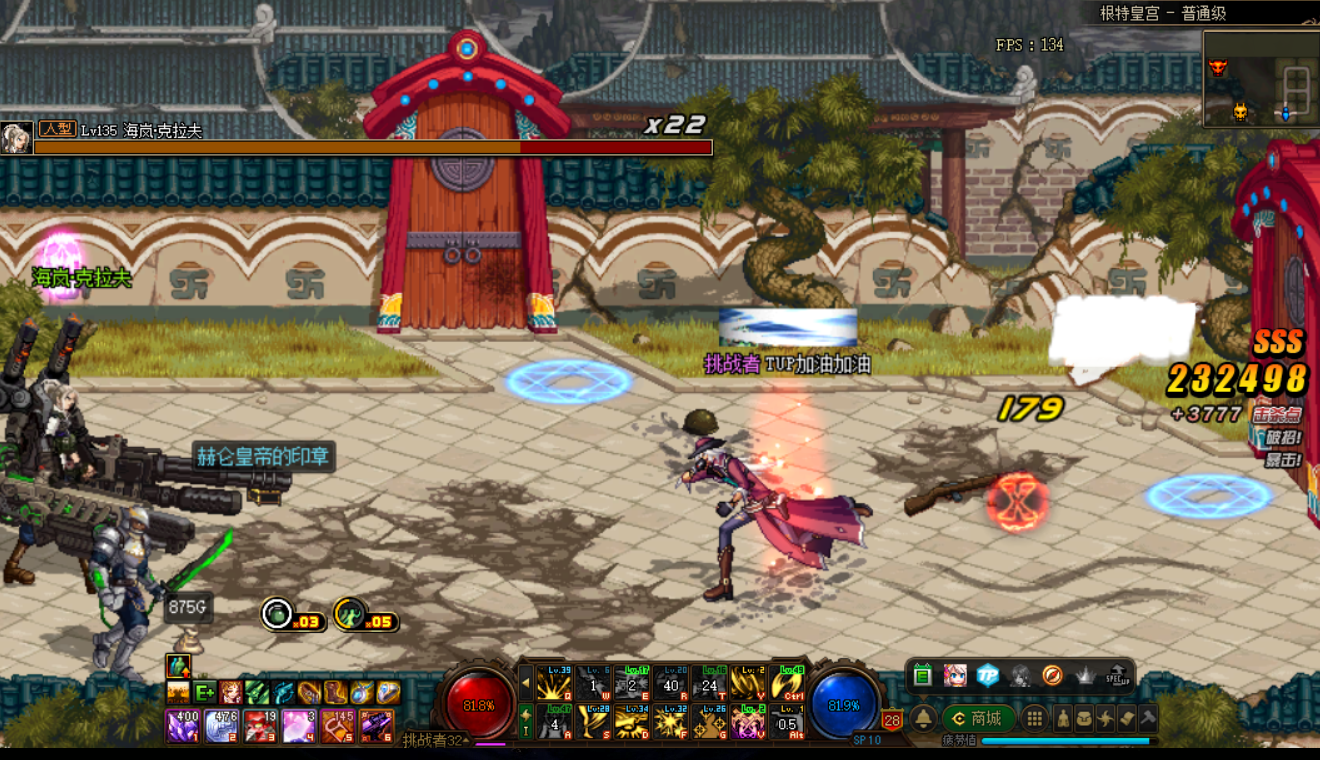monster: (10, 305, 289, 596), (80, 505, 235, 681)
warrior: (680, 414, 874, 612)
